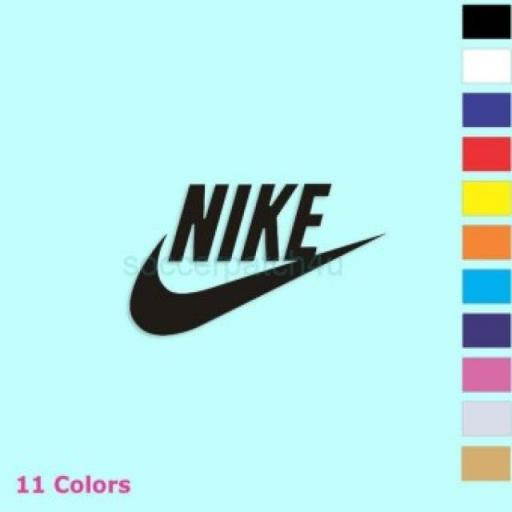Nike: (128, 232, 386, 338), (167, 182, 333, 267)
